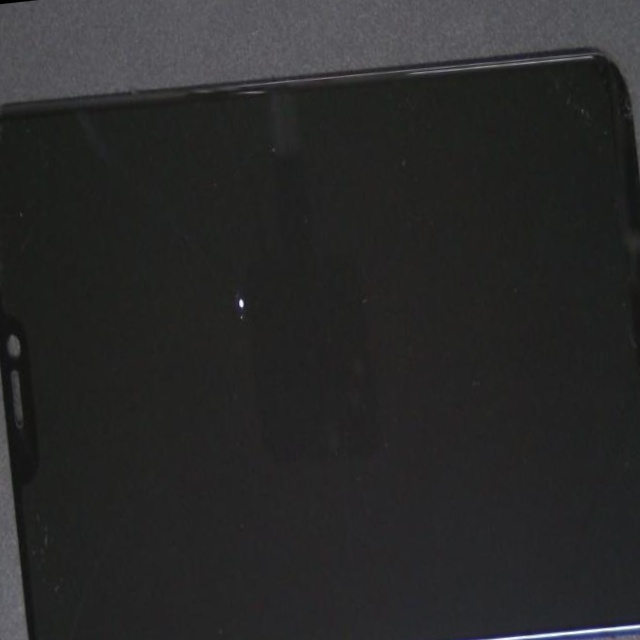stain: (103, 69, 385, 429)
